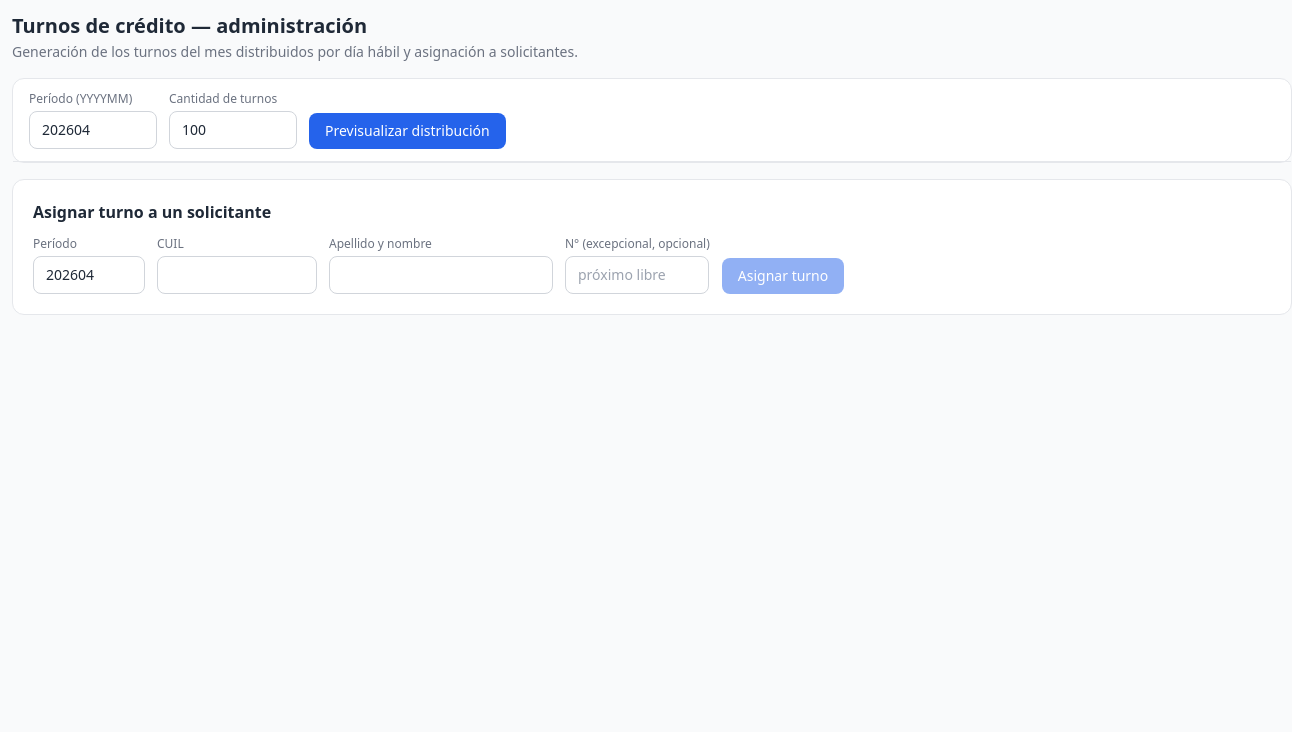
Test case: Turnos de crédito · generación › si el período ya tiene turnos avisa y no deja generar
The width and height of the screenshot is (1292, 732).
Click the button "Previsualizar distribución" at (407, 131), box [309,113,506,149]
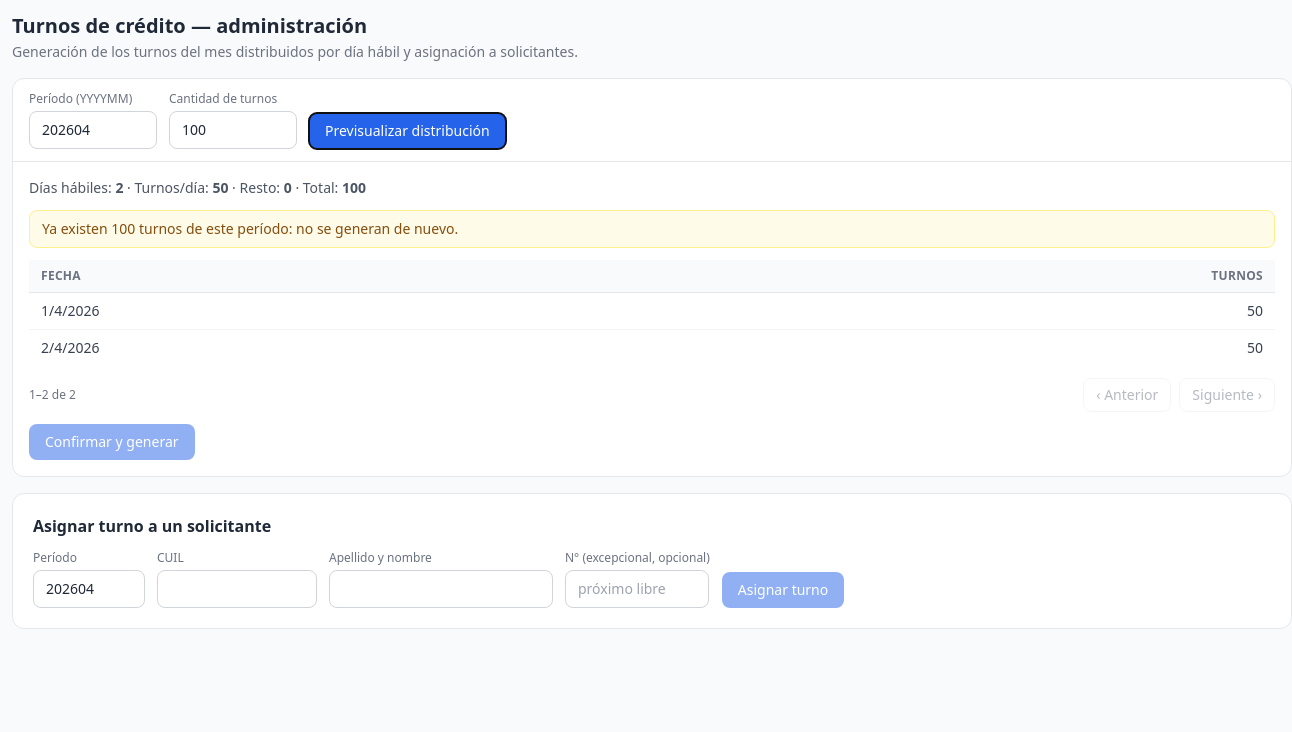
Expected: the text "Ya existen 100 turnos" is shown, [29,210,1275,248]
Expected: the button "Confirmar y generar" is disabled, [29,424,194,460]
